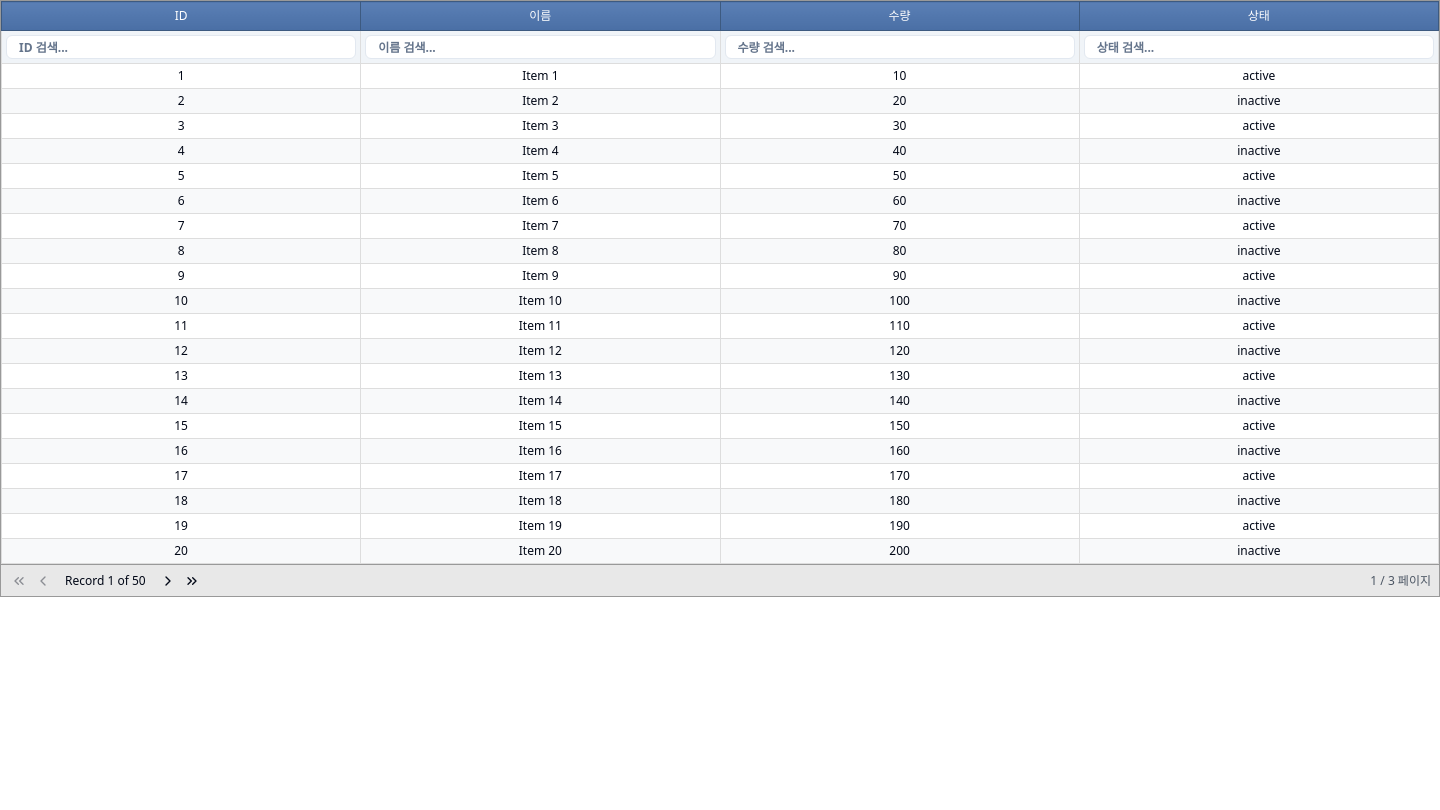
it: ERPTable 컬럼 필터링 › 필터 초기화 버튼이 동작해야 함
Type "Item 1" into the field with placeholder "이름 검색..." at [540, 47], box [365, 35, 716, 59]
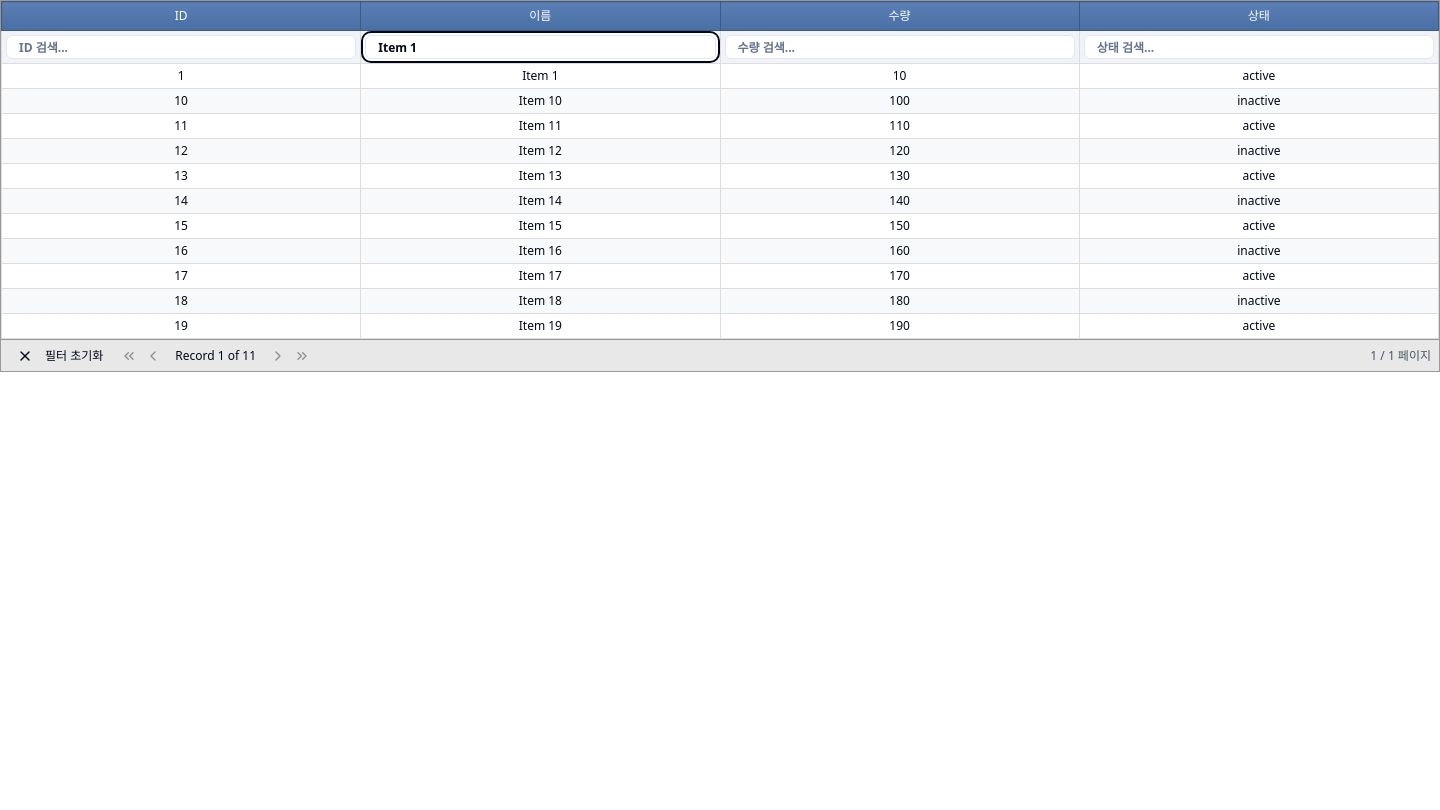
Note: 초기화 버튼 클릭
Click the button "필터 초기화" at [60, 356], box [9, 344, 111, 368]
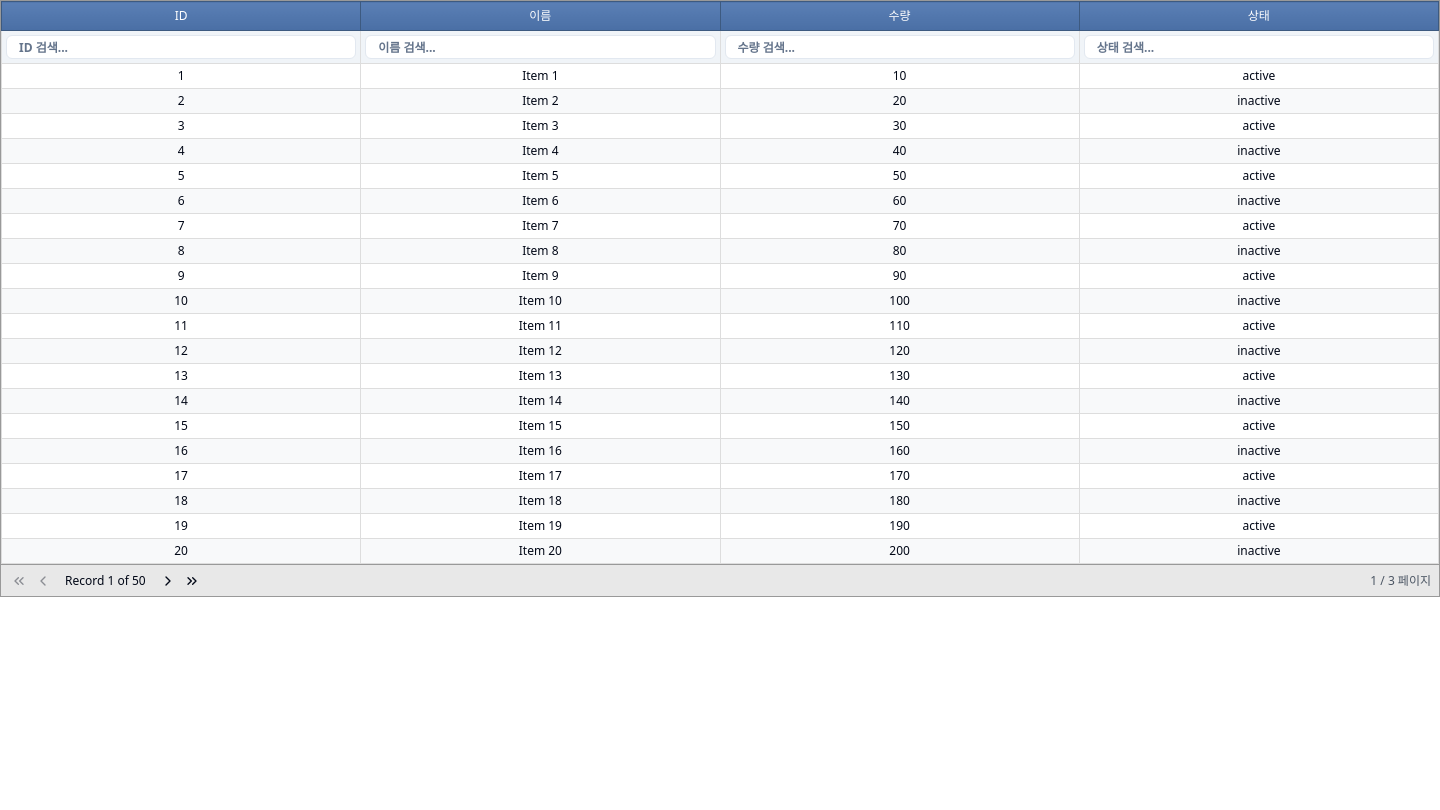
Result: the field with placeholder "이름 검색..." is empty at [365, 35, 716, 59]
